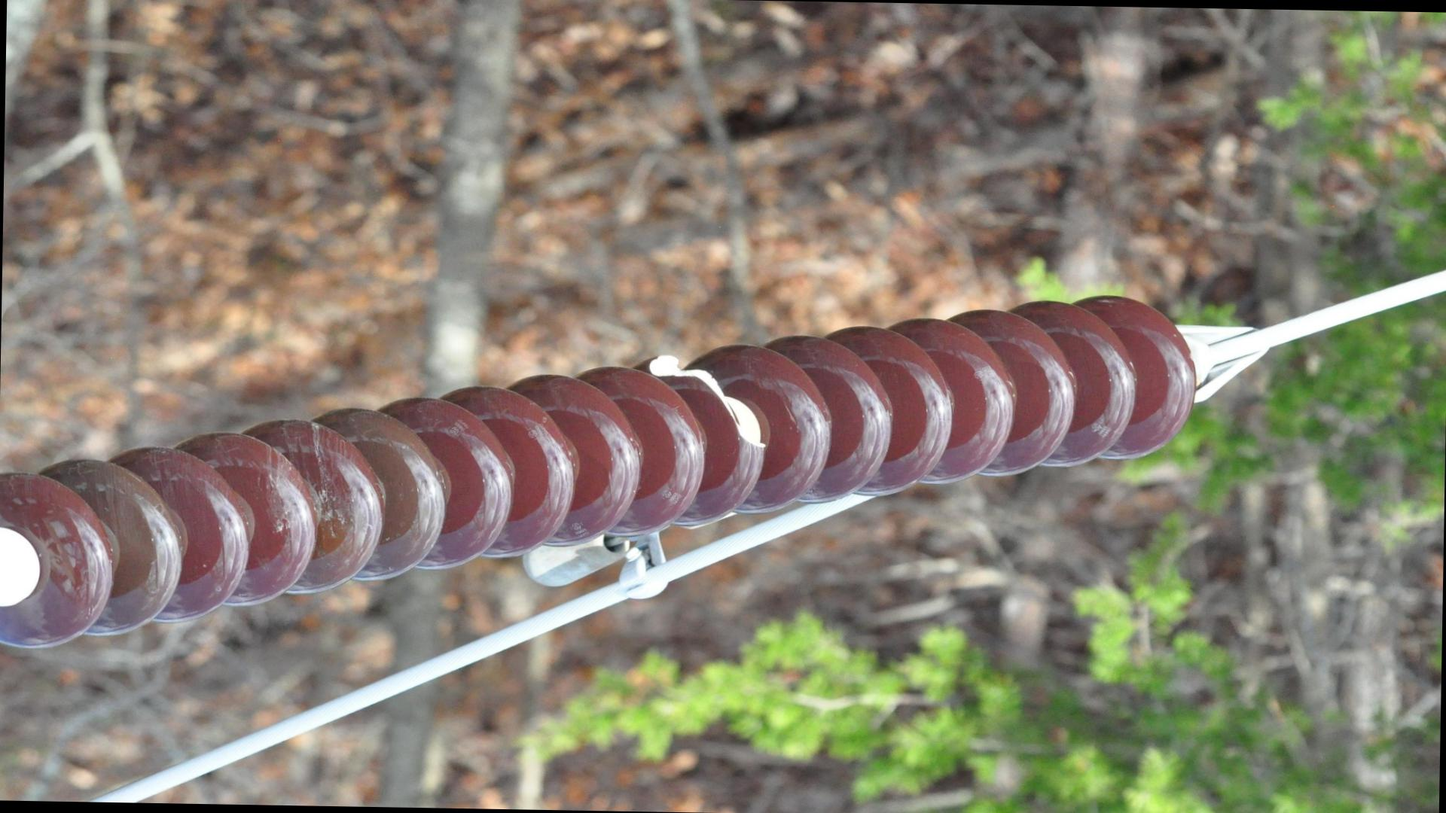damper: (514, 501, 740, 606)
